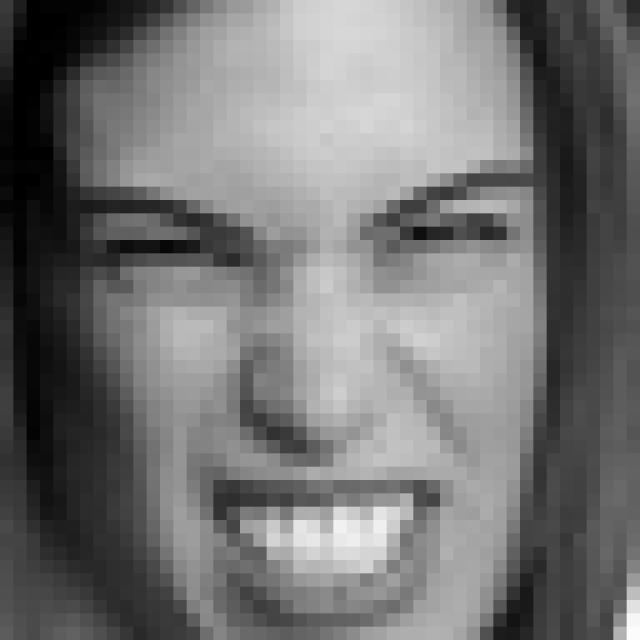disgust: (74, 161, 539, 621)
